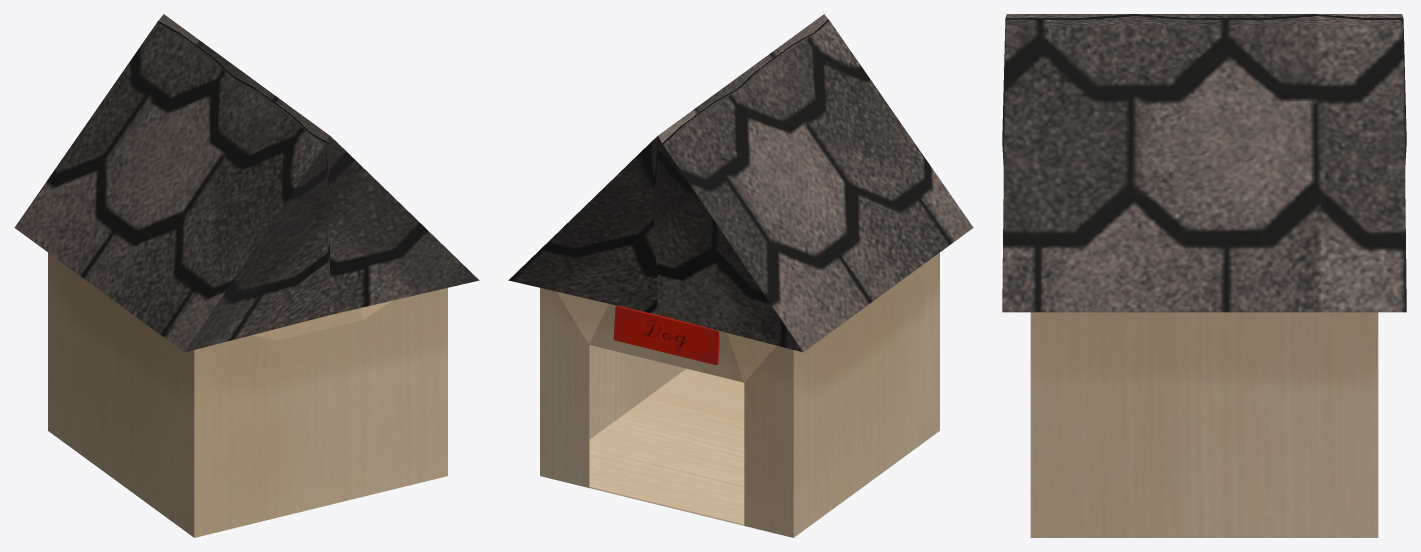
Rendered from HOUSE DOG 2.fbx.
The picture shows the model from 3 angles, left to right: view 1: azimuth 30°, elevation 25°; view 2: azimuth 150°, elevation 25°; view 3: azimuth 270°, elevation 25°; orthographic projection. The views are drawn at different scales.
Visible parts, largest first — view 1: Cube.005, Cube.004; view 2: Cube.005, Cube.004, Cube.006; view 3: Cube.005, Cube.004.
Boxes of the visible parts, x1,y1,x2,y2 form: Cube.005: (14,14,479,352); Cube.004: (48,252,447,537); Cube.005: (508,14,973,352); Cube.004: (540,252,939,537); Cube.006: (613,305,719,365); Cube.005: (1002,14,1406,312); Cube.004: (1030,312,1378,537).
Bounding box in the file's own units: 1163 × 1427 × 1163.
